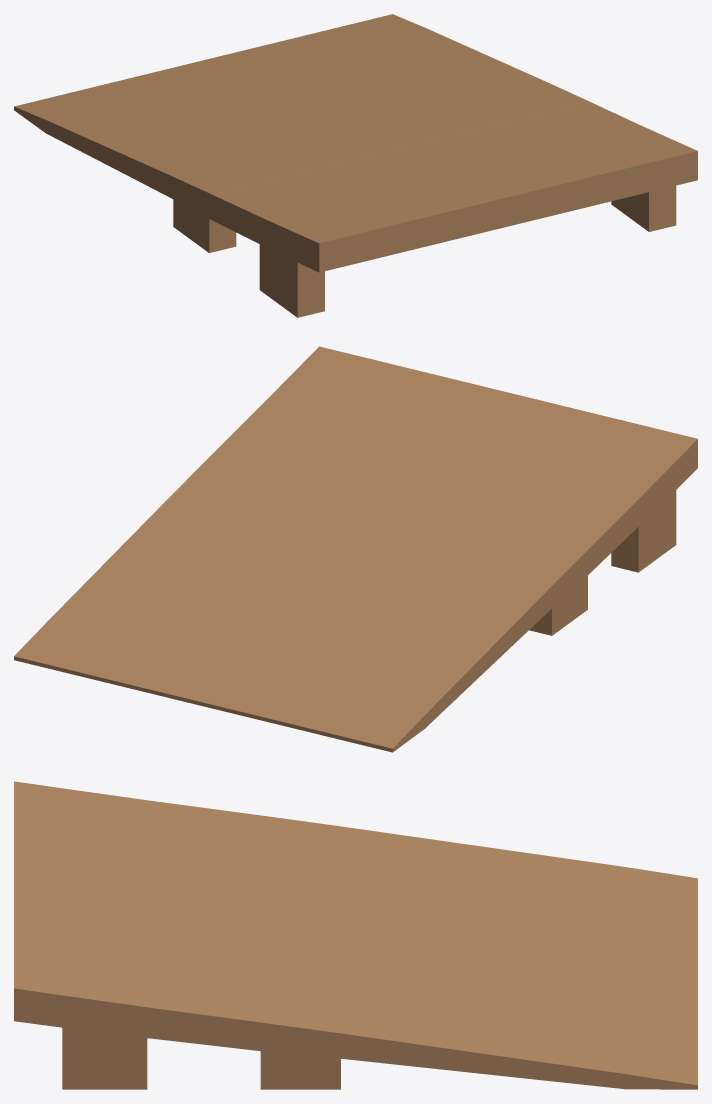
The model's file is Middle Ramp.fbx.
3 renders of one model, top to bottom at view 1: azimuth 30°, elevation 25°; view 2: azimuth 150°, elevation 25°; view 3: azimuth 270°, elevation 25°, orthographic. The views are drawn at different scales.
Visible parts, largest first — view 1: Ramp_Middle; view 2: Ramp_Middle; view 3: Ramp_Middle.
Boxes of the visible parts, x1,y1,x2,y2 form: Ramp_Middle: (14, 14, 697, 317); Ramp_Middle: (14, 346, 697, 752); Ramp_Middle: (14, 781, 697, 1089).
Bounding box in the file's own units: 7.82 × 1.78 × 10.92.
